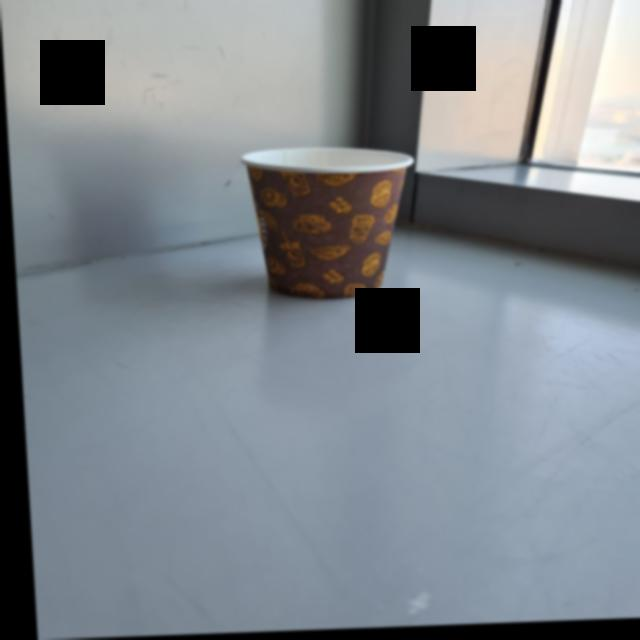cups: (239, 142, 420, 304)
